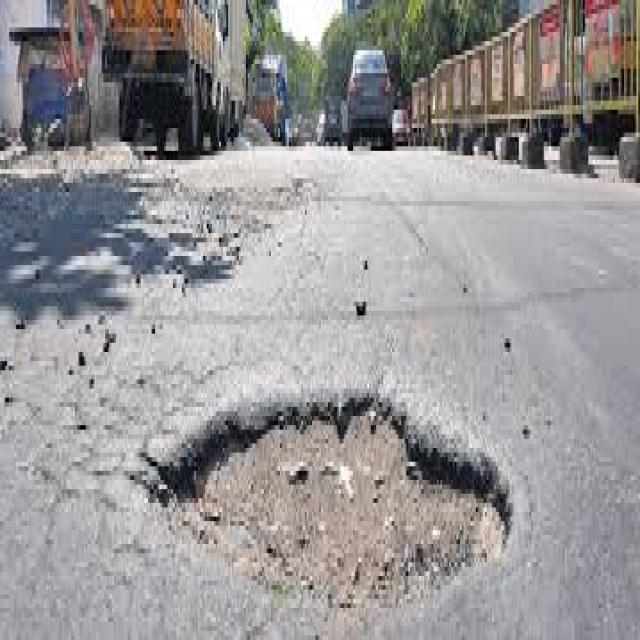pothole: (141, 384, 512, 635)
